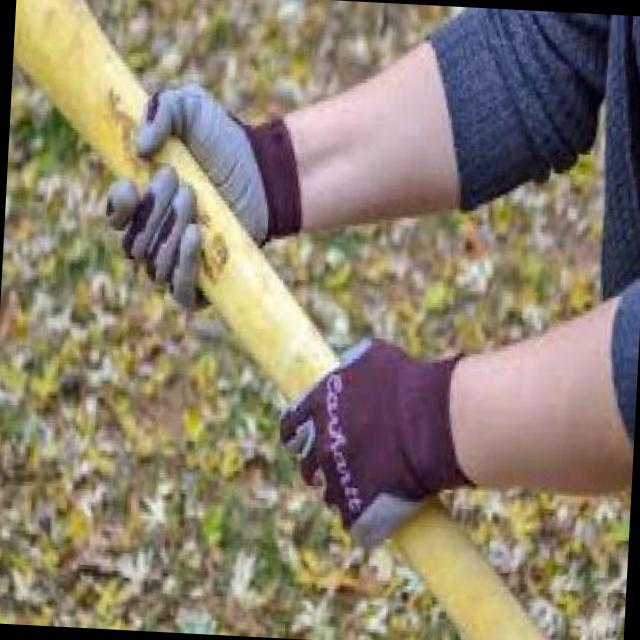gloves: (92, 80, 319, 318), (272, 331, 485, 542)
